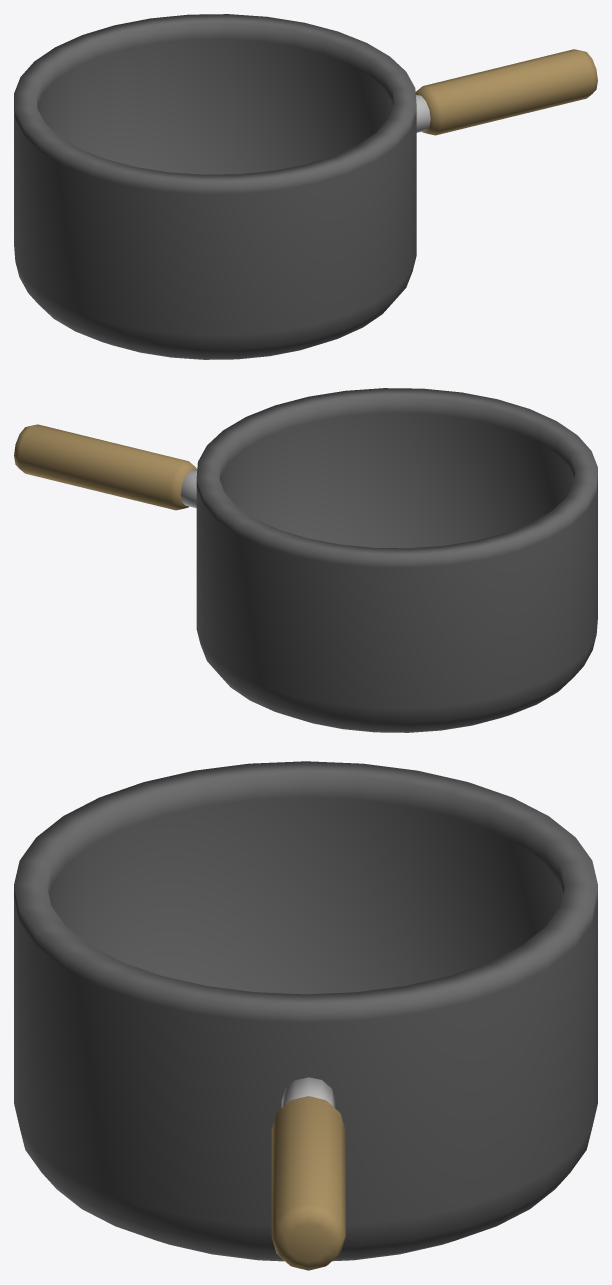
The model's file is Pan_02.fbx.
3 views of the same model, one above another, from view 1: azimuth 30°, elevation 25°; view 2: azimuth 150°, elevation 25°; view 3: azimuth 270°, elevation 25° (orthographic). The views are drawn at different scales.
Parts seen in each view (by area): view 1: Pan_02; view 2: Pan_02; view 3: Pan_02.
Boxes of the visible parts, x1,y1,x2,y2 form: Pan_02: (14,14,597,359); Pan_02: (14,388,597,732); Pan_02: (14,761,597,1270).
Bounding box in the file's own units: 15.62 × 5.23 × 9.93.
